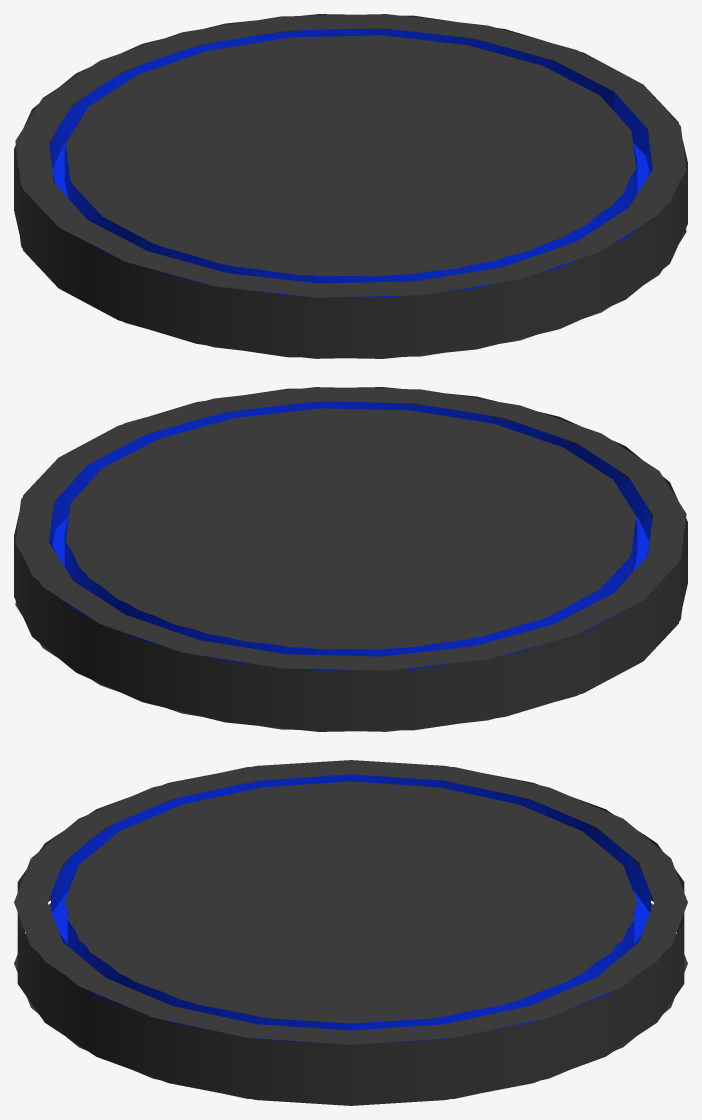
File: Teleporter.obj
The picture shows the model from 3 angles, top to bottom: view 1: azimuth 30°, elevation 25°; view 2: azimuth 150°, elevation 25°; view 3: azimuth 270°, elevation 25°; orthographic projection.
Parts seen in each view (by area): view 1: nurbsToPoly6, nurbsToPoly4, nurbsToPoly1, nurbsToPoly2, nurbsToPoly5, nurbsToPoly3; view 2: nurbsToPoly6, nurbsToPoly4, nurbsToPoly1, nurbsToPoly2, nurbsToPoly5, nurbsToPoly3; view 3: nurbsToPoly6, nurbsToPoly4, nurbsToPoly1, nurbsToPoly2, nurbsToPoly5, nurbsToPoly3.
Boxes of the visible parts, box(x1,y1,x2,y2) form: nurbsToPoly6: box(15, 14, 686, 297); nurbsToPoly4: box(14, 14, 687, 358); nurbsToPoly1: box(49, 29, 652, 297); nurbsToPoly2: box(64, 35, 637, 282); nurbsToPoly5: box(19, 181, 686, 358); nurbsToPoly3: box(52, 143, 649, 198); nurbsToPoly6: box(15, 387, 686, 670); nurbsToPoly4: box(14, 387, 687, 731); nurbsToPoly1: box(49, 402, 652, 670); nurbsToPoly2: box(64, 408, 637, 655); nurbsToPoly5: box(15, 554, 682, 731); nurbsToPoly3: box(52, 516, 649, 571); nurbsToPoly6: box(14, 760, 687, 1044); nurbsToPoly4: box(17, 760, 684, 1105); nurbsToPoly1: box(51, 774, 650, 1044); nurbsToPoly2: box(67, 781, 634, 1030); nurbsToPoly5: box(14, 903, 687, 1098); nurbsToPoly3: box(52, 891, 649, 943).
Bounding box in the file's own units: 6.16 × 0.6155 × 6.16.
